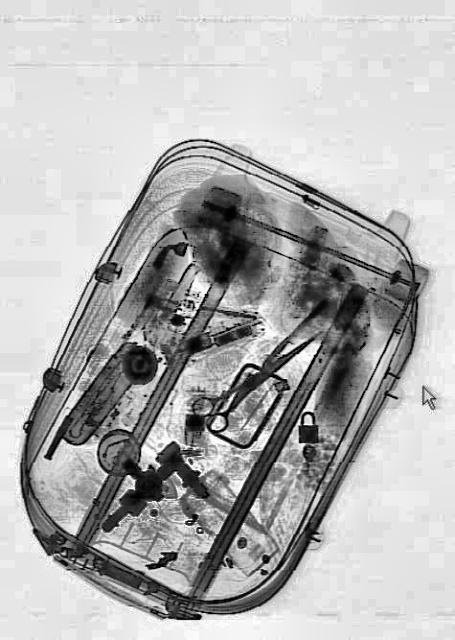Scissors: (188, 311, 332, 443)
